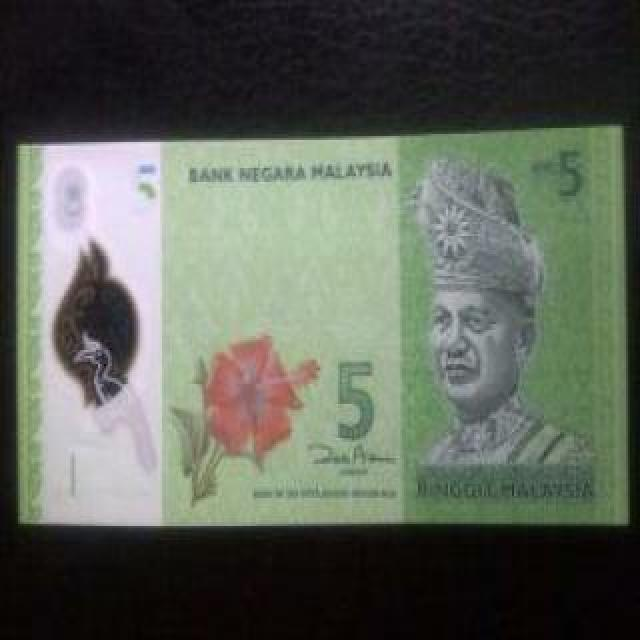5 Ringgit: (20, 138, 640, 534)
